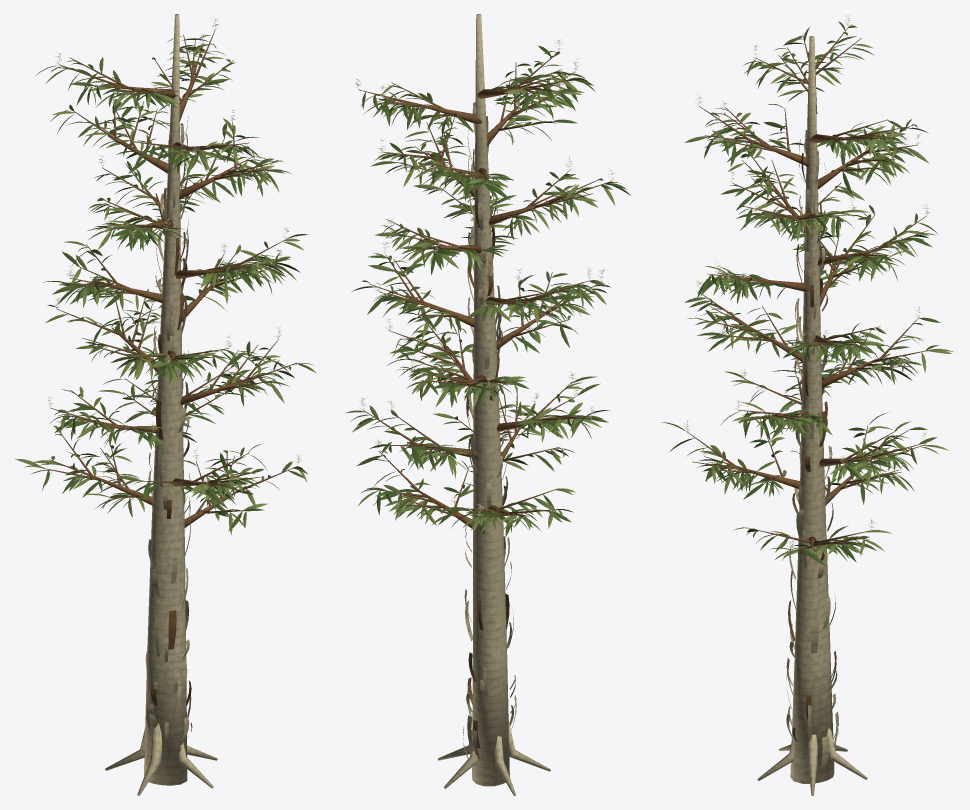
The model's file is 03_paperbark_v2_slender.glb.
3 views of the same model, side by side, from view 1: azimuth 30°, elevation 25°; view 2: azimuth 150°, elevation 25°; view 3: azimuth 270°, elevation 25° (orthographic). The views are drawn at different scales.
Parts seen in each view (by area): view 1: Paperbark variant | distinct trunks and branches, Paperbark variant | narrow evergreen foliage, Paperbark variant | curled papery exfoliating bark, Paperbark variant | cream bottlebrush flowers; view 2: Paperbark variant | distinct trunks and branches, Paperbark variant | narrow evergreen foliage, Paperbark variant | curled papery exfoliating bark, Paperbark variant | cream bottlebrush flowers; view 3: Paperbark variant | distinct trunks and branches, Paperbark variant | narrow evergreen foliage, Paperbark variant | curled papery exfoliating bark, Paperbark variant | cream bottlebrush flowers.
Part boxes in pixels (bbox=[...]): Paperbark variant | distinct trunks and branches: bbox=[42, 14, 297, 795]; Paperbark variant | narrow evergreen foliage: bbox=[14, 35, 315, 534]; Paperbark variant | curled papery exfoliating bark: bbox=[145, 109, 192, 742]; Paperbark variant | cream bottlebrush flowers: bbox=[47, 17, 301, 489]; Paperbark variant | distinct trunks and branches: bbox=[359, 14, 611, 795]; Paperbark variant | narrow evergreen foliage: bbox=[345, 45, 630, 537]; Paperbark variant | curled papery exfoliating bark: bbox=[463, 102, 516, 759]; Paperbark variant | cream bottlebrush flowers: bbox=[354, 39, 615, 516]; Paperbark variant | distinct trunks and branches: bbox=[687, 27, 929, 795]; Paperbark variant | narrow evergreen foliage: bbox=[661, 21, 954, 568]; Paperbark variant | curled papery exfoliating bark: bbox=[786, 130, 838, 767]; Paperbark variant | cream bottlebrush flowers: bbox=[683, 14, 929, 548].
Size of the model in its own units: 3.21 by 9.1 by 3.27.
5 materials, 4 textured.
